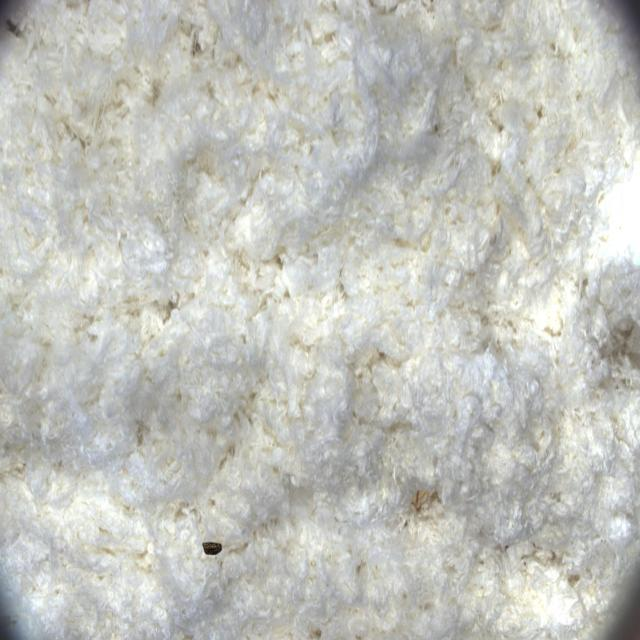dust: (188, 510, 240, 581)
